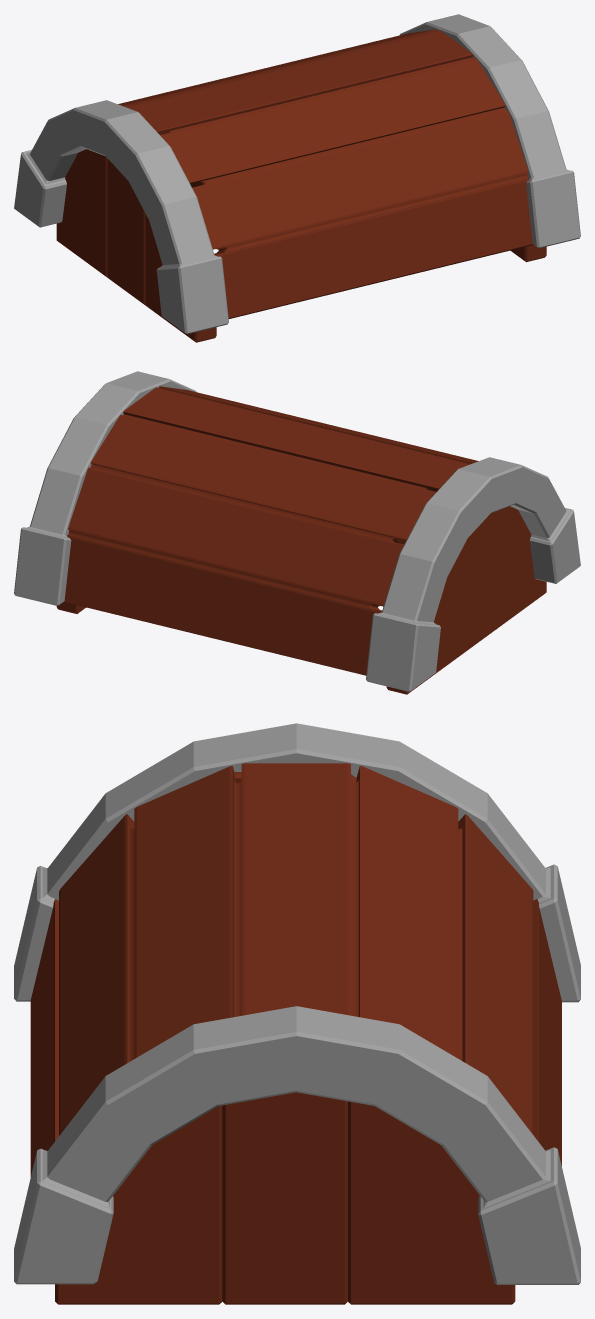
The model's file is Chest_Top.fbx.
3 views of the same model, one above another, from view 1: azimuth 30°, elevation 25°; view 2: azimuth 150°, elevation 25°; view 3: azimuth 270°, elevation 25° (orthographic). The views are drawn at different scales.
Parts seen in each view (by area): view 1: Chest_Top; view 2: Chest_Top; view 3: Chest_Top.
Part boxes in pixels (x1,y1,x2,y2): Chest_Top: [14, 14, 580, 342]; Chest_Top: [14, 371, 580, 694]; Chest_Top: [14, 723, 580, 1304].
Bounding box in the file's own units: 90.4 × 37.87 × 67.79.
